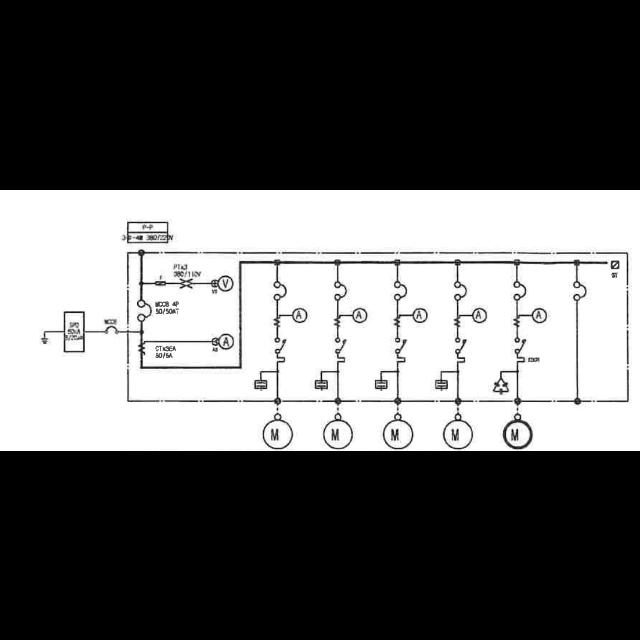A: (220, 334, 234, 348), (413, 307, 427, 321), (473, 307, 487, 321), (532, 308, 546, 322), (292, 308, 306, 322), (353, 307, 367, 321)
AS: (212, 338, 218, 344)
CT: (138, 340, 146, 354), (513, 314, 521, 326), (274, 314, 280, 326), (455, 314, 461, 326), (394, 315, 400, 327)
GND: (41, 336, 49, 344)
MCCB: (138, 300, 152, 320), (574, 280, 586, 300), (274, 281, 286, 299), (334, 281, 346, 299), (395, 281, 407, 299), (514, 281, 526, 299), (456, 281, 466, 299), (106, 325, 118, 333)
PF2: (155, 280, 165, 284)
PT: (180, 278, 192, 288)
V: (218, 276, 234, 290)
VS: (212, 280, 218, 286)
